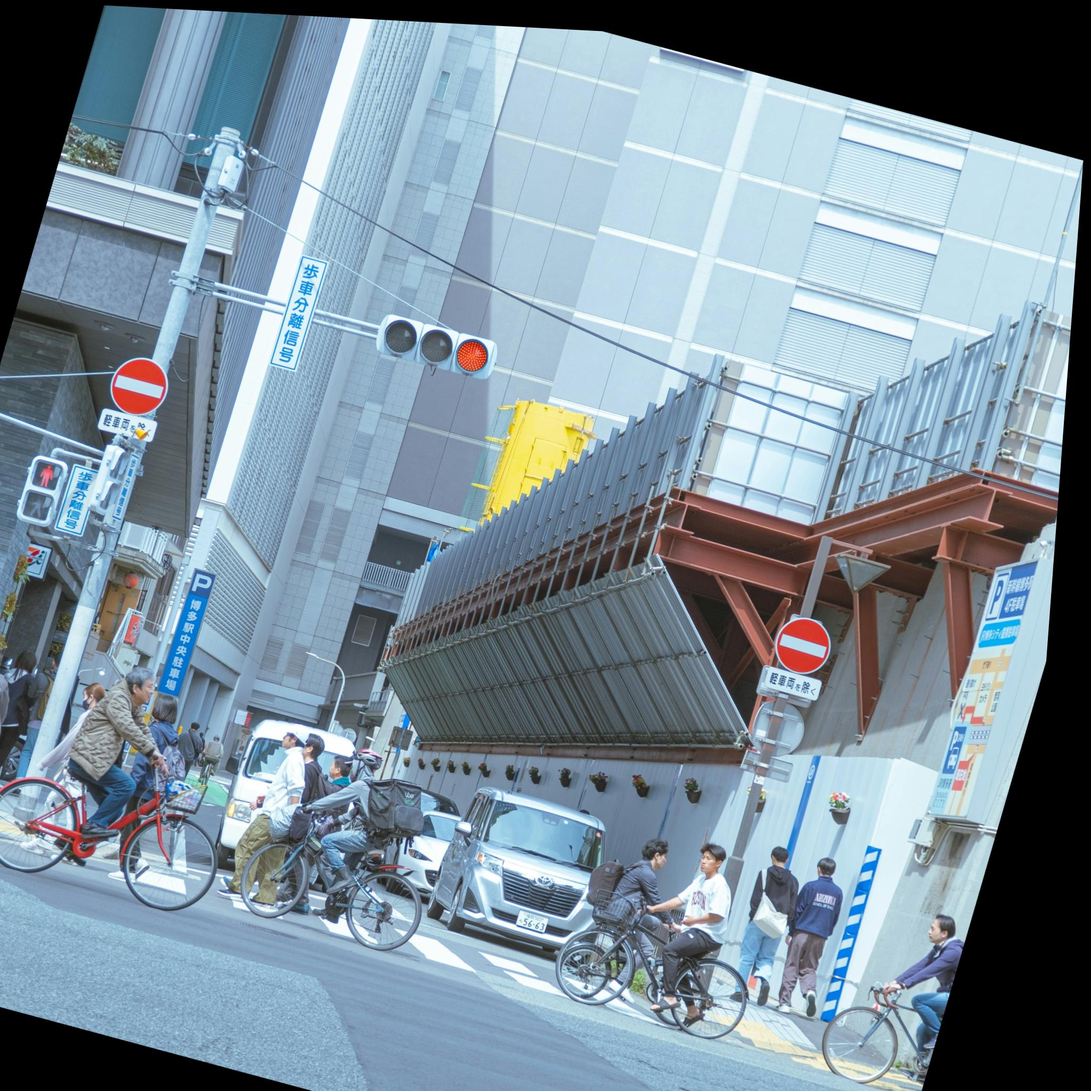barrier: (97, 346, 182, 427), (766, 611, 838, 681)
